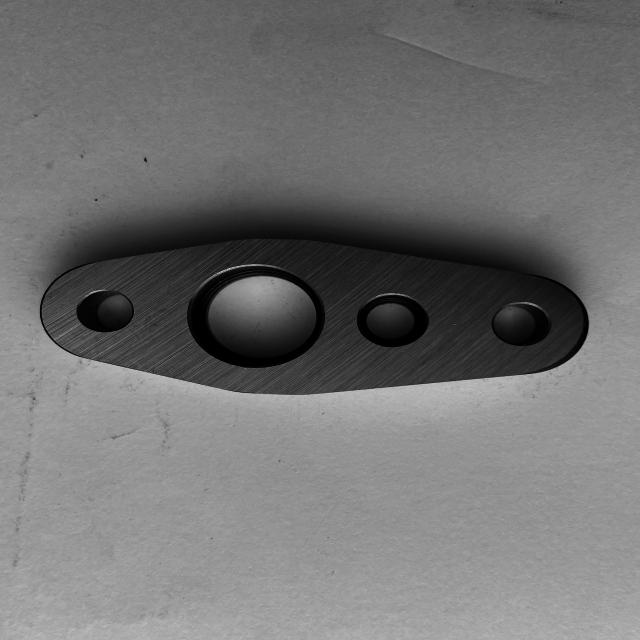chap: (450, 323, 460, 328), (212, 272, 220, 276)
